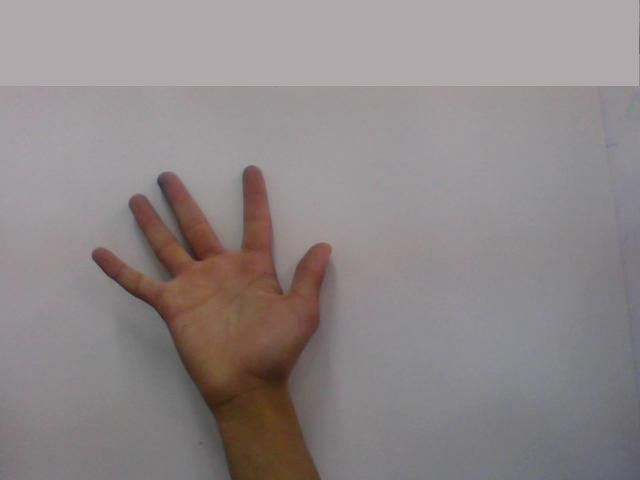hand: (84, 159, 344, 378)
